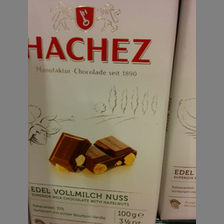chocolate: (29, 1, 180, 223)
